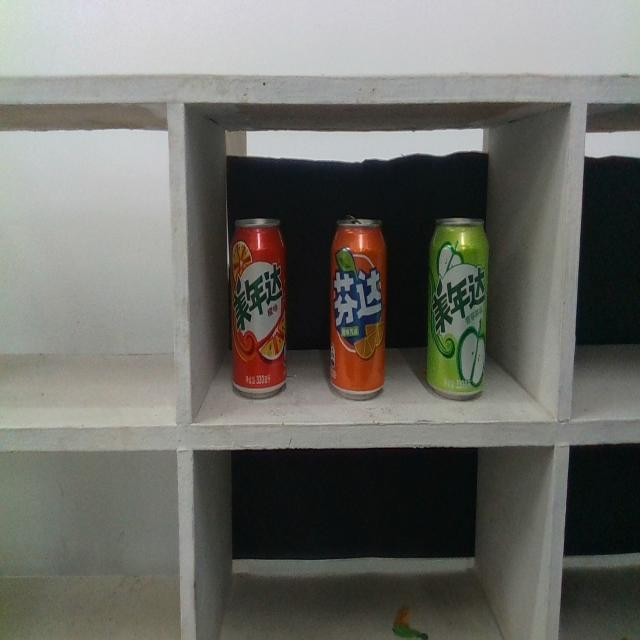can: (423, 212, 491, 404), (326, 212, 389, 404), (228, 212, 288, 402)
